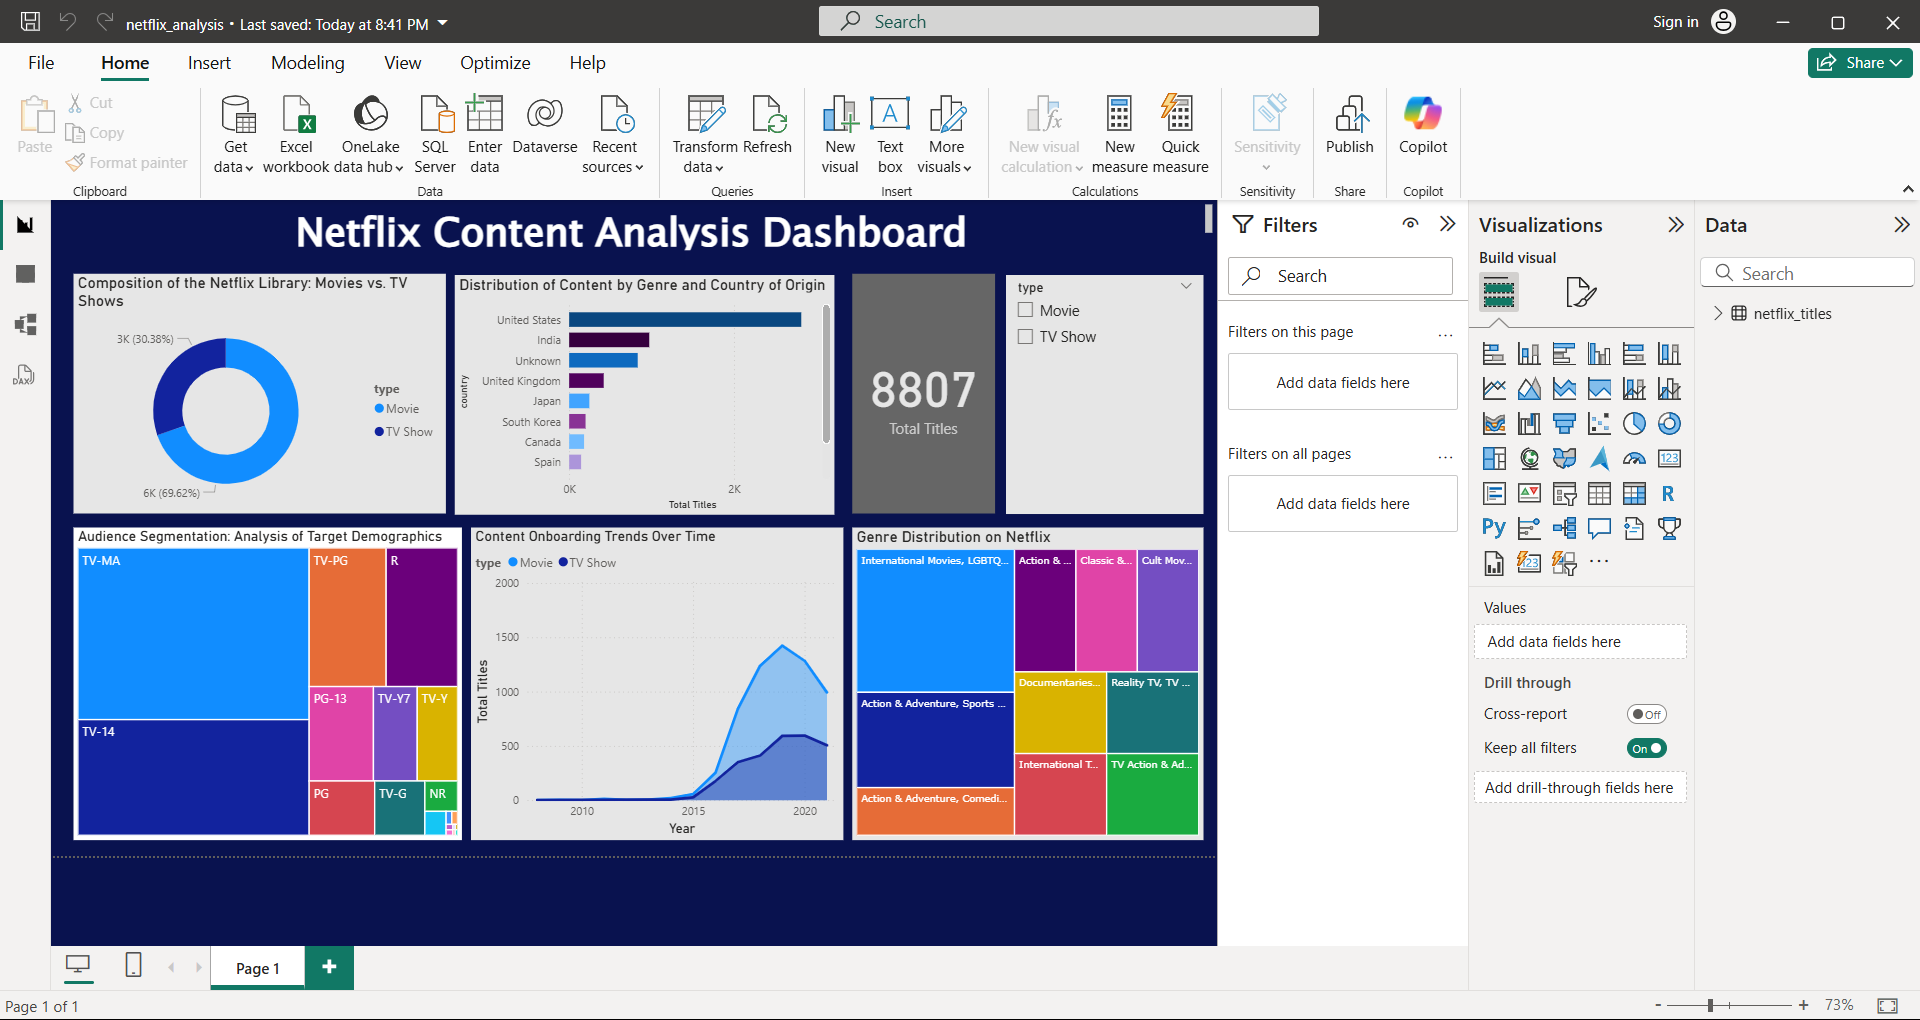

What the dashboard file says about the page in this screenshot:
{"tool":"powerbi","page":{"name":"Page 1","canvas":[1280,720],"ordinal":0},"visuals":[{"type":"clusteredBarChart","title":"Distribution of Content by Genre and Country of Origin","fields":{"Category":["netflix_titles.country"],"Y":["netflix_titles.Total Titles"]},"box":[443.2,82.3,417.2,263],"z":0},{"type":"donutChart","title":"Composition of the Netflix Library: Movies vs. TV Shows","fields":{"Category":["netflix_titles.type"],"Y":["netflix_titles.Total Titles"]},"box":[24.7,81,408.9,263.5],"z":1000},{"type":"areaChart","title":"Content Onboarding Trends Over Time","fields":{"Category":["netflix_titles.date_added.Variation.Date Hierarchy.Year","netflix_titles.date_added.Variation.Date Hierarchy.Quarter","netflix_titles.date_added.Variation.Date Hierarchy.Month","netflix_titles.date_added.Variation.Date Hierarchy.Day"],"Series":["netflix_titles.type"],"Y":["netflix_titles.Total Titles"]},"box":[461.1,359.5,408.9,343.1],"z":2000},{"type":"treemap","title":"Audience Segmentation: Analysis of Target Demographics","fields":{"Group":["netflix_titles.rating"],"Values":["netflix_titles.Total Titles"]},"box":[24.7,359.5,426.8,343.1],"z":3000},{"type":"card","fields":{"Values":["netflix_titles.Total Titles"]},"box":[879.6,81,156.4,263.5],"z":4000},{"type":"treemap","title":"Genre Distribution on Netflix","fields":{"Group":["netflix_titles.listed_in"],"Values":["CountNonNull(netflix_titles.show_id)"]},"box":[879.6,359.5,385.6,343.1],"z":5000},{"type":"textbox","box":[1.4,0,1278.9,60.4],"z":6000},{"type":"slicer","fields":{"Values":["netflix_titles.type"]},"box":[1048.4,82.3,216.8,262.1],"z":7000}]}

Visuals, with their boxes on the page's 1280x720 design canvas (x1, y1, x2, y2). These are canvas units, not pixel positions in the 1920x1020 screenshot, which may show the page scaled, cropped or inside an application window:
"Distribution of Content by Genre and Country of Origin" clusteredBarChart: <box>443,82,860,345</box>
"Composition of the Netflix Library: Movies vs. TV Shows" donutChart: <box>25,81,434,344</box>
"Content Onboarding Trends Over Time" areaChart: <box>461,360,870,703</box>
"Audience Segmentation: Analysis of Target Demographics" treemap: <box>25,360,452,703</box>
card - netflix_titles.Total Titles: <box>880,81,1036,344</box>
"Genre Distribution on Netflix" treemap: <box>880,360,1265,703</box>
textbox: <box>1,0,1280,60</box>
slicer - netflix_titles.type: <box>1048,82,1265,344</box>
